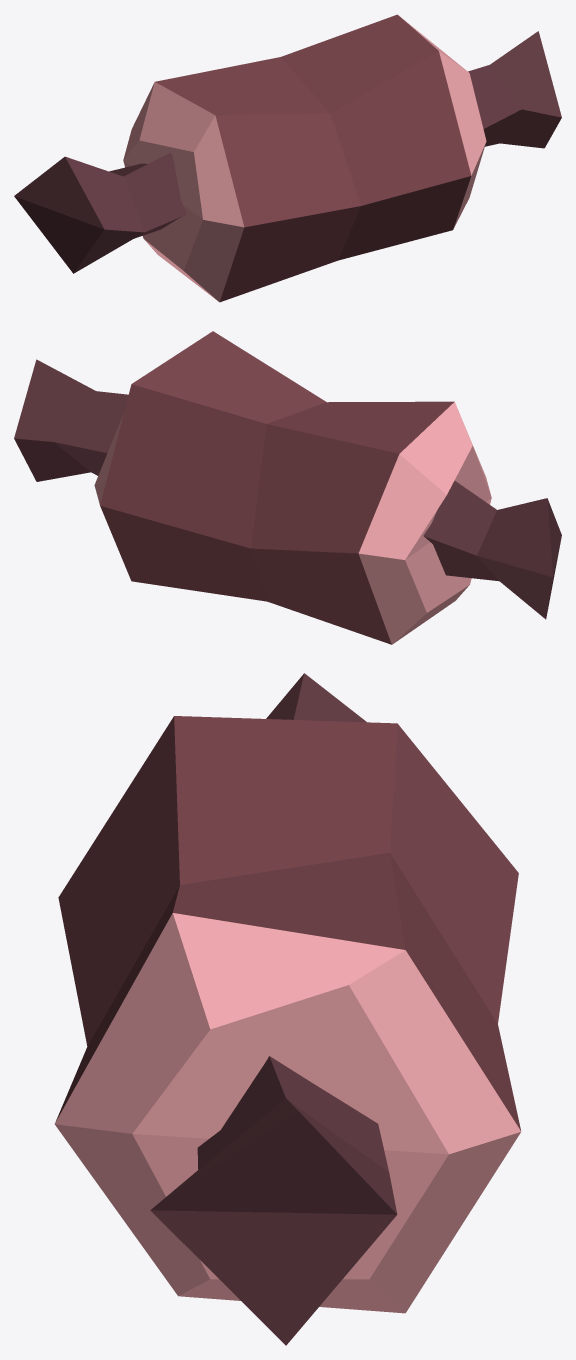
Rendered from SM_Meat_Haunch_A.fbx.
The picture shows the model from 3 angles, top to bottom: view 1: azimuth 30°, elevation 25°; view 2: azimuth 150°, elevation 25°; view 3: azimuth 270°, elevation 25°; orthographic projection. The views are drawn at different scales.
Visible parts, largest first — view 1: SM_Meat_Haunch_a; view 2: SM_Meat_Haunch_a; view 3: SM_Meat_Haunch_a.
Boxes of the visible parts, <box> form: SM_Meat_Haunch_a: <box>14,14,561,302</box>; SM_Meat_Haunch_a: <box>14,331,561,644</box>; SM_Meat_Haunch_a: <box>54,673,521,1345</box>.
Size of the model in its own units: 0.6852 by 0.2551 by 0.2752.
